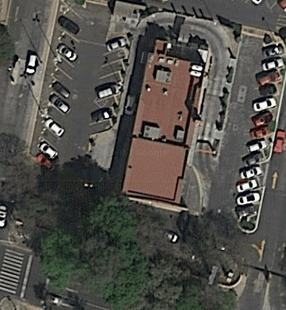parkingspot: (231, 43, 286, 221), (35, 8, 85, 173), (89, 33, 130, 136)
